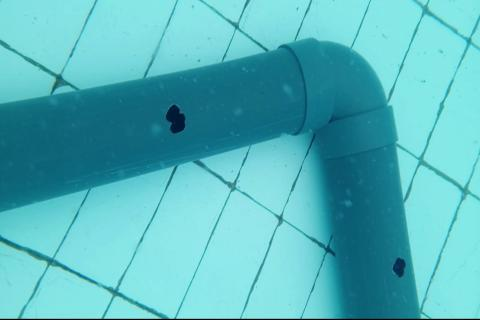kebocoran: (165, 102, 186, 133), (392, 256, 406, 278)
